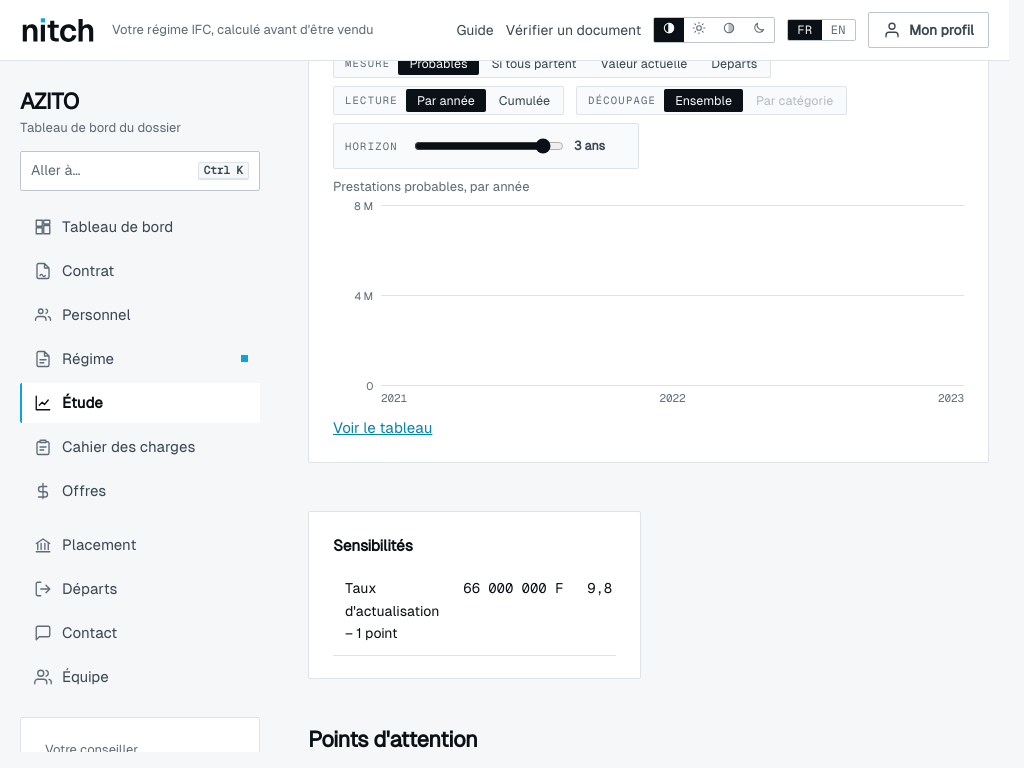
Scenario: l'échéancier des départs › une année sans départ le dit, et la bulle s'ouvre aussi d'un toucher ou au clavier
(page scrolled)
Click the button named "2022" at (672, 385), box [576,384,769,386]
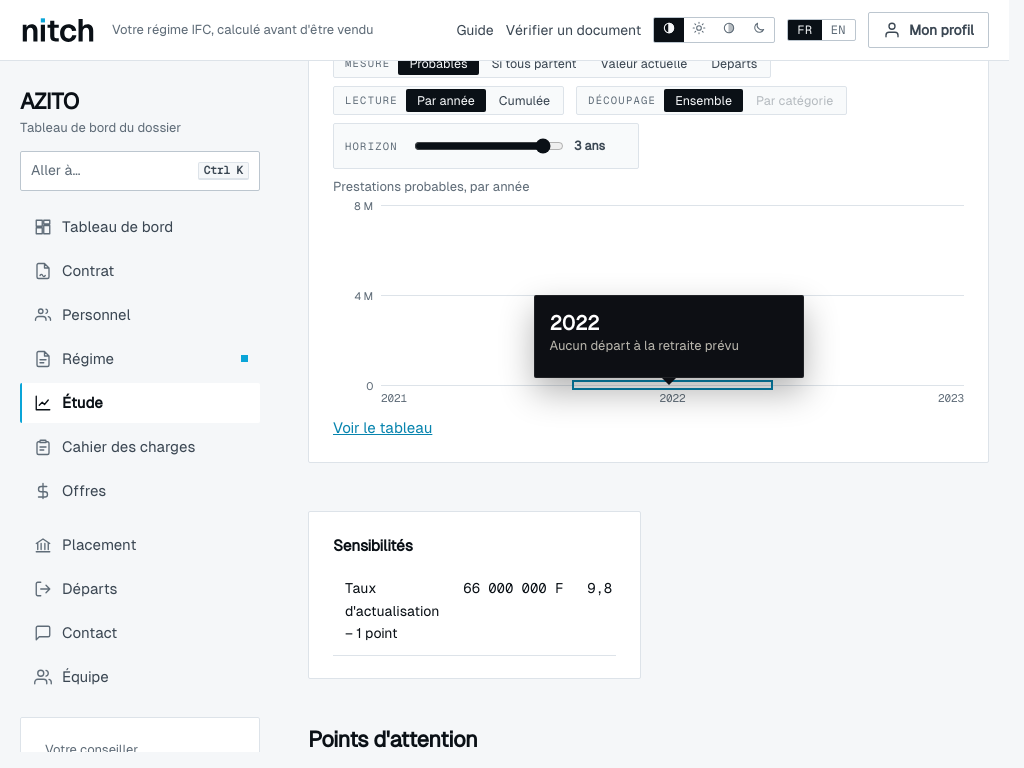
Result: the tooltip shows "Aucun départ à la retraite prévu" at [550,338,739,353]
Press Escape
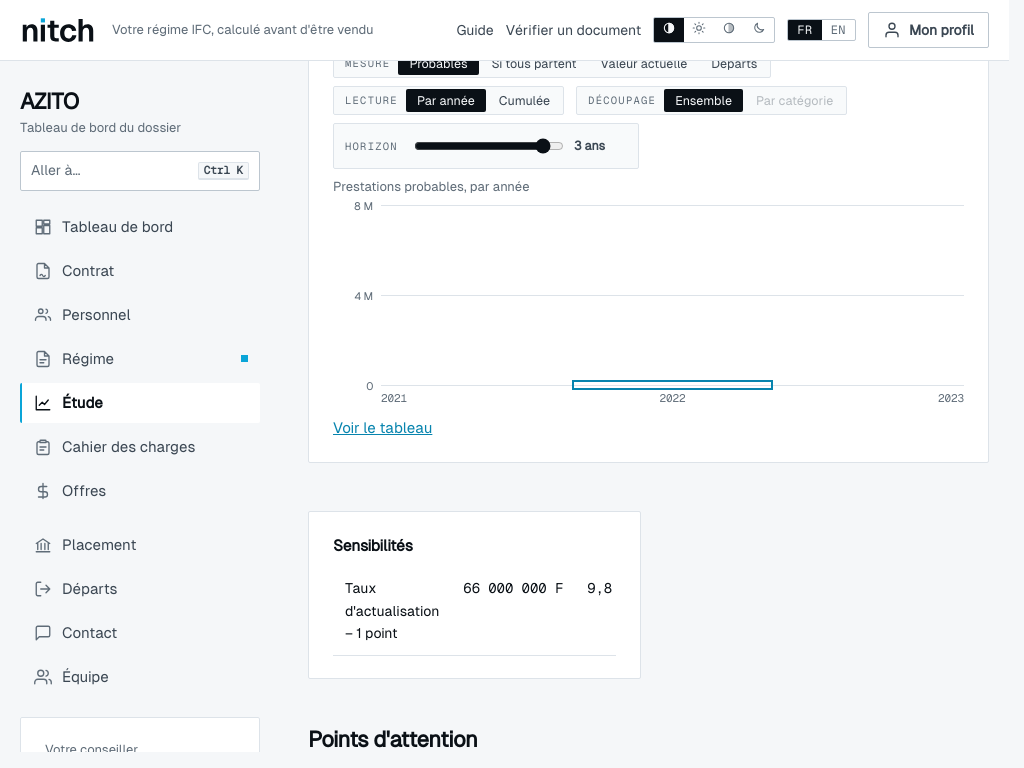
Result: the tooltip "2022 Aucun départ à la retraite prévu" is gone
Press Shift+Tab
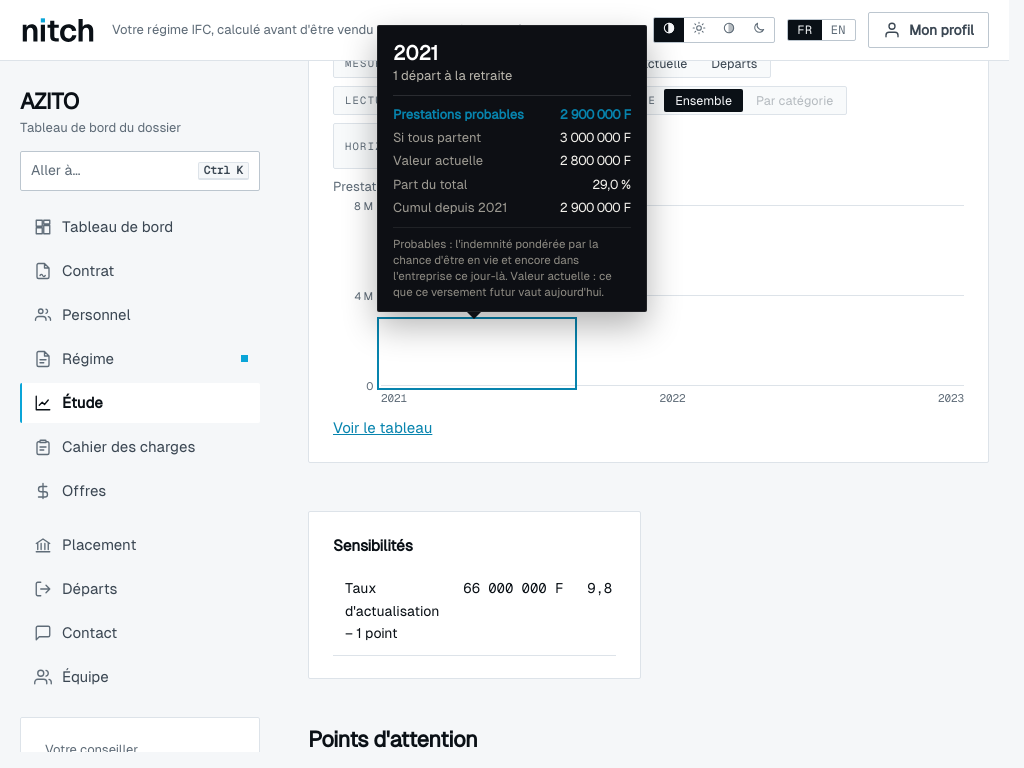
Result: the tooltip shows "1 départ à la retraite" at [393,68,512,83]
